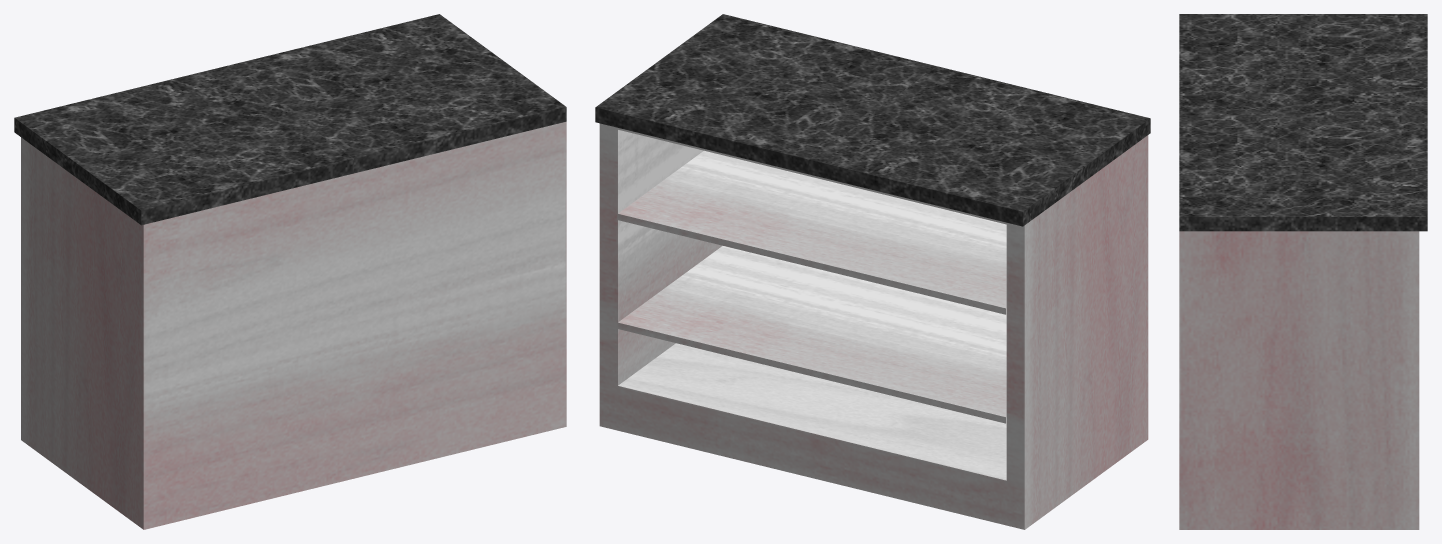
File: cupbpard3.fbx
3 renders of one model, left to right at view 1: azimuth 30°, elevation 25°; view 2: azimuth 150°, elevation 25°; view 3: azimuth 270°, elevation 25°, orthographic. The views are drawn at different scales.
Parts seen in each view (by area): view 1: cupboard3; view 2: cupboard3; view 3: cupboard3.
Part boxes in pixels (x1,y1,x2,y2): cupboard3: (14, 14, 566, 529); cupboard3: (595, 14, 1150, 529); cupboard3: (1179, 14, 1427, 529).
Bounding box in the file's own units: 2.22 × 1.6 × 1.15.
